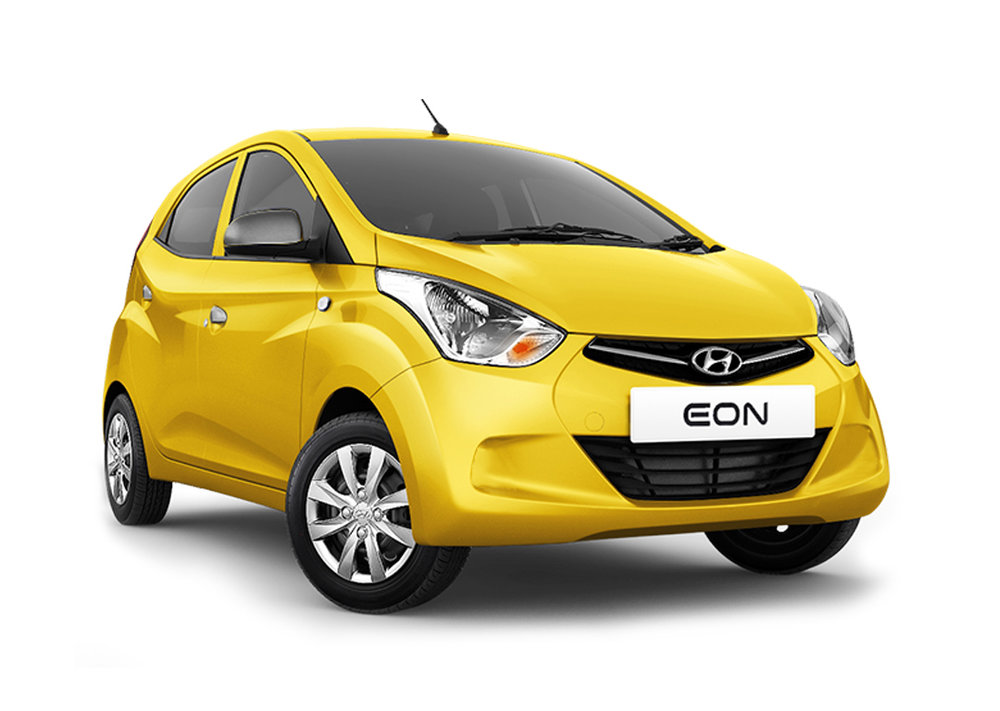eon: (86, 93, 919, 638)
